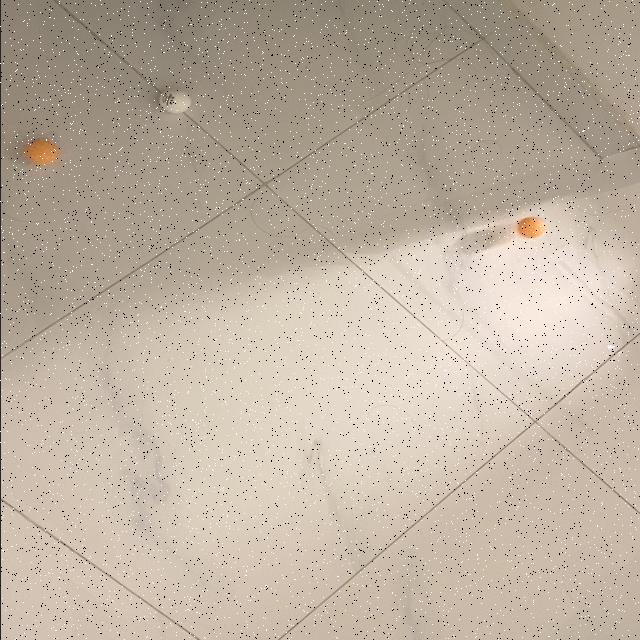ping-pong-ball: (21, 139, 59, 166), (154, 88, 192, 114), (516, 216, 546, 238)
